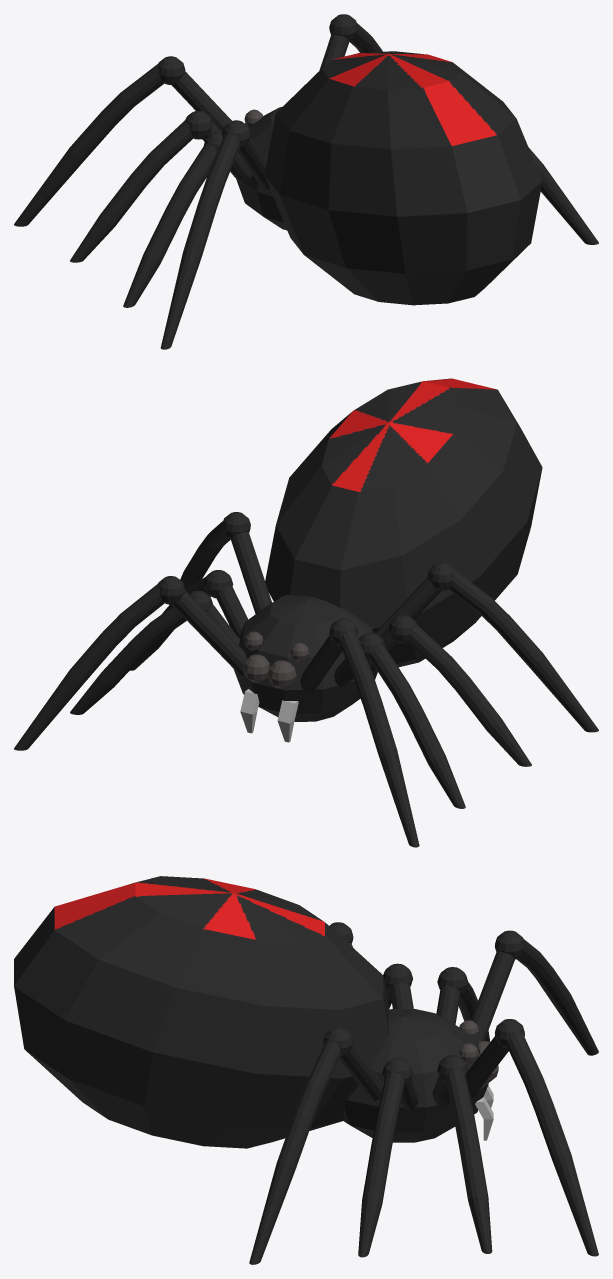
File: Spider.fbx
The picture shows the model from 3 angles, top to bottom: view 1: azimuth 30°, elevation 25°; view 2: azimuth 150°, elevation 25°; view 3: azimuth 270°, elevation 25°; orthographic projection. The views are drawn at different scales.
Visible parts, largest first — view 1: Butt, LowerLeg_2, LowerLeg_4, LowerLeg, LowerLeg_3, Body, LowerLeg_8, UpperLeg_3, UpperLeg_1, Joint_3, Joint_2, Joint_4 (+3 smaller); view 2: Butt, Body, LowerLeg_4, LowerLeg_5, LowerLeg_2, LowerLeg_3, LowerLeg, LowerLeg_6, UpperLeg_4, UpperLeg_7, LowerLeg_8, UpperLeg_3 (+4 smaller); view 3: Butt, Body, LowerLeg_8, LowerLeg_5, LowerLeg_6, LowerLeg_7, LowerLeg_4, UpperLeg_3, UpperLeg_4, UpperLeg_7, UpperLeg_2, Joint_3 (+6 smaller).
Part boxes in pixels (<box>): Butt: <box>264,51,542,305</box>; LowerLeg_2: <box>160,133,240,349</box>; LowerLeg_4: <box>14,64,164,226</box>; LowerLeg: <box>123,143,216,307</box>; LowerLeg_3: <box>70,119,193,262</box>; Body: <box>236,106,287,230</box>; LowerLeg_8: <box>528,147,598,244</box>; UpperLeg_3: <box>171,71,231,131</box>; UpperLeg_1: <box>238,137,269,189</box>; Joint_3: <box>158,56,185,84</box>; Joint_2: <box>185,111,213,139</box>; Joint_4: <box>329,14,358,40</box>; Butt: <box>265,378,542,667</box>; Body: <box>233,595,377,721</box>; LowerLeg_4: <box>339,631,419,847</box>; LowerLeg_5: <box>14,584,164,750</box>; LowerLeg_2: <box>448,569,598,732</box>; LowerLeg_3: <box>370,644,465,808</box>; LowerLeg: <box>408,624,531,766</box>; LowerLeg_6: <box>70,606,186,714</box>; UpperLeg_4: <box>172,591,246,677</box>; UpperLeg_7: <box>230,531,271,613</box>; LowerLeg_8: <box>169,520,230,605</box>; UpperLeg_3: <box>300,635,342,693</box>; Butt: <box>14,876,389,1148</box>; Body: <box>343,1009,488,1142</box>; LowerLeg_8: <box>249,1040,341,1264</box>; LowerLeg_5: <box>506,1032,598,1256</box>; LowerLeg_6: <box>445,1068,492,1253</box>; LowerLeg_7: <box>358,1072,404,1257</box>; LowerLeg_4: <box>516,939,598,1055</box>; UpperLeg_3: <box>471,950,515,1041</box>; UpperLeg_4: <box>466,1036,508,1097</box>; UpperLeg_7: <box>339,1044,383,1100</box>; UpperLeg_2: <box>436,985,460,1024</box>; Joint_3: <box>495,930,524,959</box>.
Bounding box in the file's own units: 66.1 × 36.42 × 73.18.
Materials: 4 (4 with a texture image).
